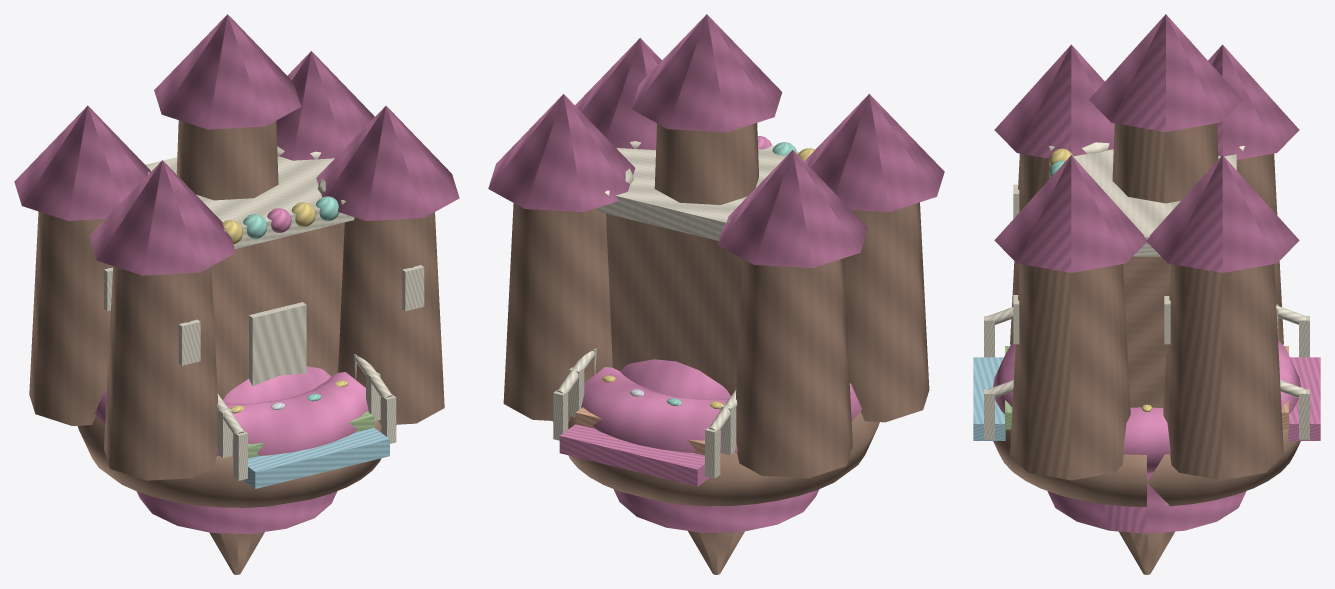
The model's file is st2_candy.glb.
3 views of the same model, side by side, from view 1: azimuth 30°, elevation 25°; view 2: azimuth 150°, elevation 25°; view 3: azimuth 270°, elevation 25° (orthographic). The views are drawn at different scales.
Parts seen in each view (by area): view 1: Frosted_Candy_Castle_Mesh, Glazed_Doughnut_Island_Mesh, Striped_Sugar_Bridge_Mesh, Glossy_Cupcake_Island_Mesh, Ice_Cream_Island_Mesh; view 2: Frosted_Candy_Castle_Mesh, Glazed_Doughnut_Island_Mesh, Striped_Sugar_Bridge_Mesh, Glossy_Cupcake_Island_Mesh, Ice_Cream_Island_Mesh; view 3: Frosted_Candy_Castle_Mesh, Glazed_Doughnut_Island_Mesh, Striped_Sugar_Bridge_Mesh, Glossy_Cupcake_Island_Mesh, Ice_Cream_Island_Mesh.
Boxes of the visible parts, x1,y1,x2,y2 form: Frosted_Candy_Castle_Mesh: [14, 14, 459, 480]; Glazed_Doughnut_Island_Mesh: [77, 372, 396, 507]; Striped_Sugar_Bridge_Mesh: [216, 354, 396, 488]; Glossy_Cupcake_Island_Mesh: [136, 491, 337, 533]; Ice_Cream_Island_Mesh: [209, 366, 330, 574]; Frosted_Candy_Castle_Mesh: [488, 14, 944, 478]; Glazed_Doughnut_Island_Mesh: [552, 367, 879, 506]; Striped_Sugar_Bridge_Mesh: [553, 348, 737, 486]; Glossy_Cupcake_Island_Mesh: [613, 489, 819, 532]; Ice_Cream_Island_Mesh: [620, 359, 744, 574]; Frosted_Candy_Castle_Mesh: [994, 14, 1299, 480]; Glazed_Doughnut_Island_Mesh: [993, 340, 1300, 506]; Striped_Sugar_Bridge_Mesh: [973, 304, 1320, 440]; Glossy_Cupcake_Island_Mesh: [1047, 472, 1246, 533]; Ice_Cream_Island_Mesh: [1119, 531, 1174, 574].
Size of the model in its own units: 2.64 by 3.92 by 2.2.
Materials: 11 (11 with a texture image).
